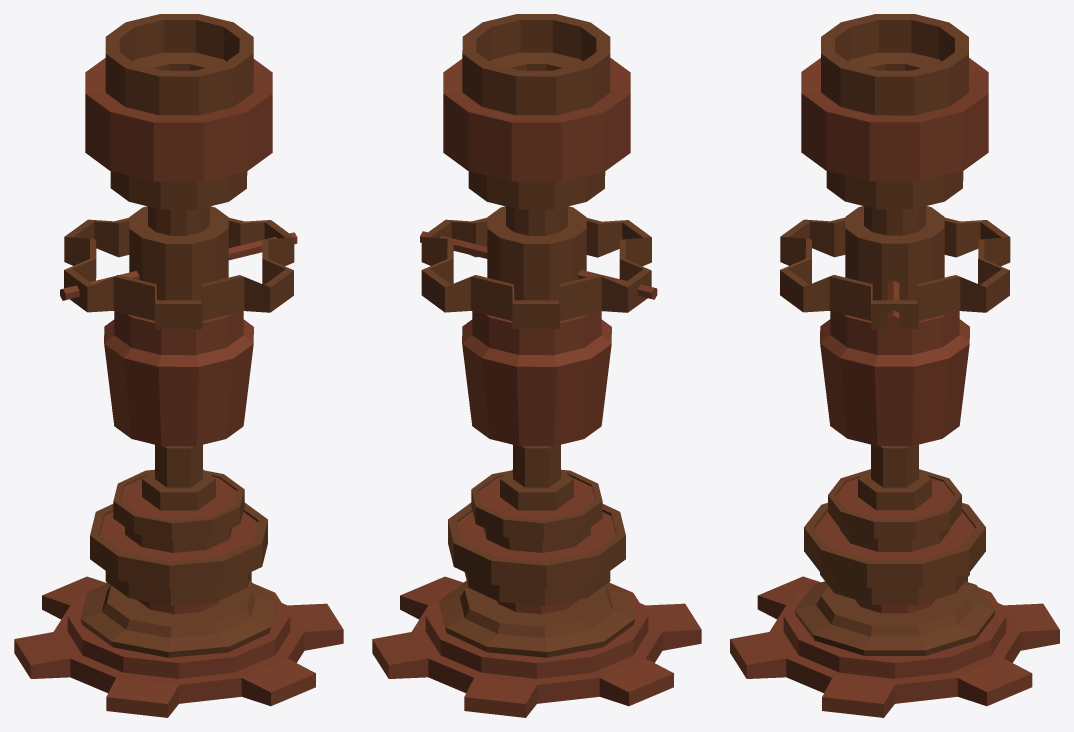
The model's file is Upwards_2.glb.
The picture shows the model from 3 angles, left to right: view 1: azimuth 30°, elevation 25°; view 2: azimuth 150°, elevation 25°; view 3: azimuth 270°, elevation 25°; orthographic projection.
Visible parts, largest first — view 1: Upwards_2_Gun, Upwards_2_Base, Upwards_2_Mid; view 2: Upwards_2_Gun, Upwards_2_Base, Upwards_2_Mid; view 3: Upwards_2_Gun, Upwards_2_Base, Upwards_2_Mid.
Part boxes in pixels (left/top/right/bottom): Upwards_2_Gun: left=60, top=14, right=297, bottom=446; Upwards_2_Base: left=14, top=502, right=343, bottom=717; Upwards_2_Mid: left=113, top=444, right=244, bottom=552; Upwards_2_Gun: left=420, top=14, right=657, bottom=446; Upwards_2_Base: left=372, top=502, right=701, bottom=717; Upwards_2_Mid: left=471, top=444, right=602, bottom=552; Upwards_2_Gun: left=780, top=14, right=1010, bottom=446; Upwards_2_Base: left=730, top=503, right=1059, bottom=717; Upwards_2_Mid: left=828, top=444, right=961, bottom=551.
Size of the model in its own units: 1.38 by 2.79 by 1.38.
